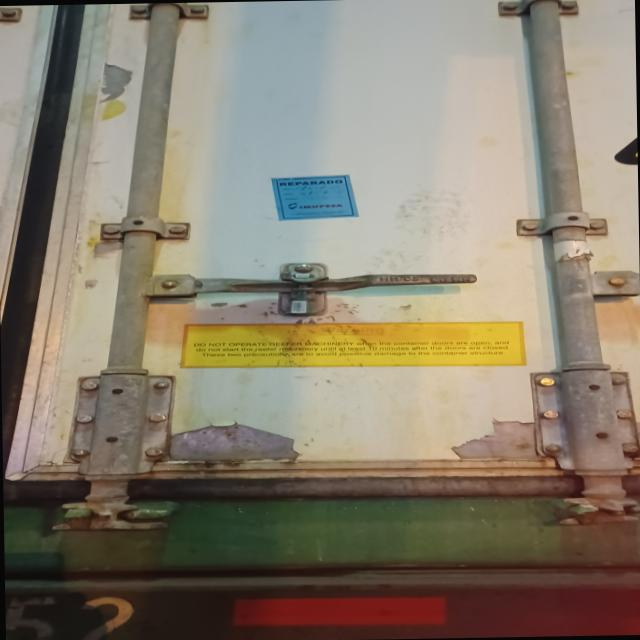seal: (274, 264, 342, 322)
